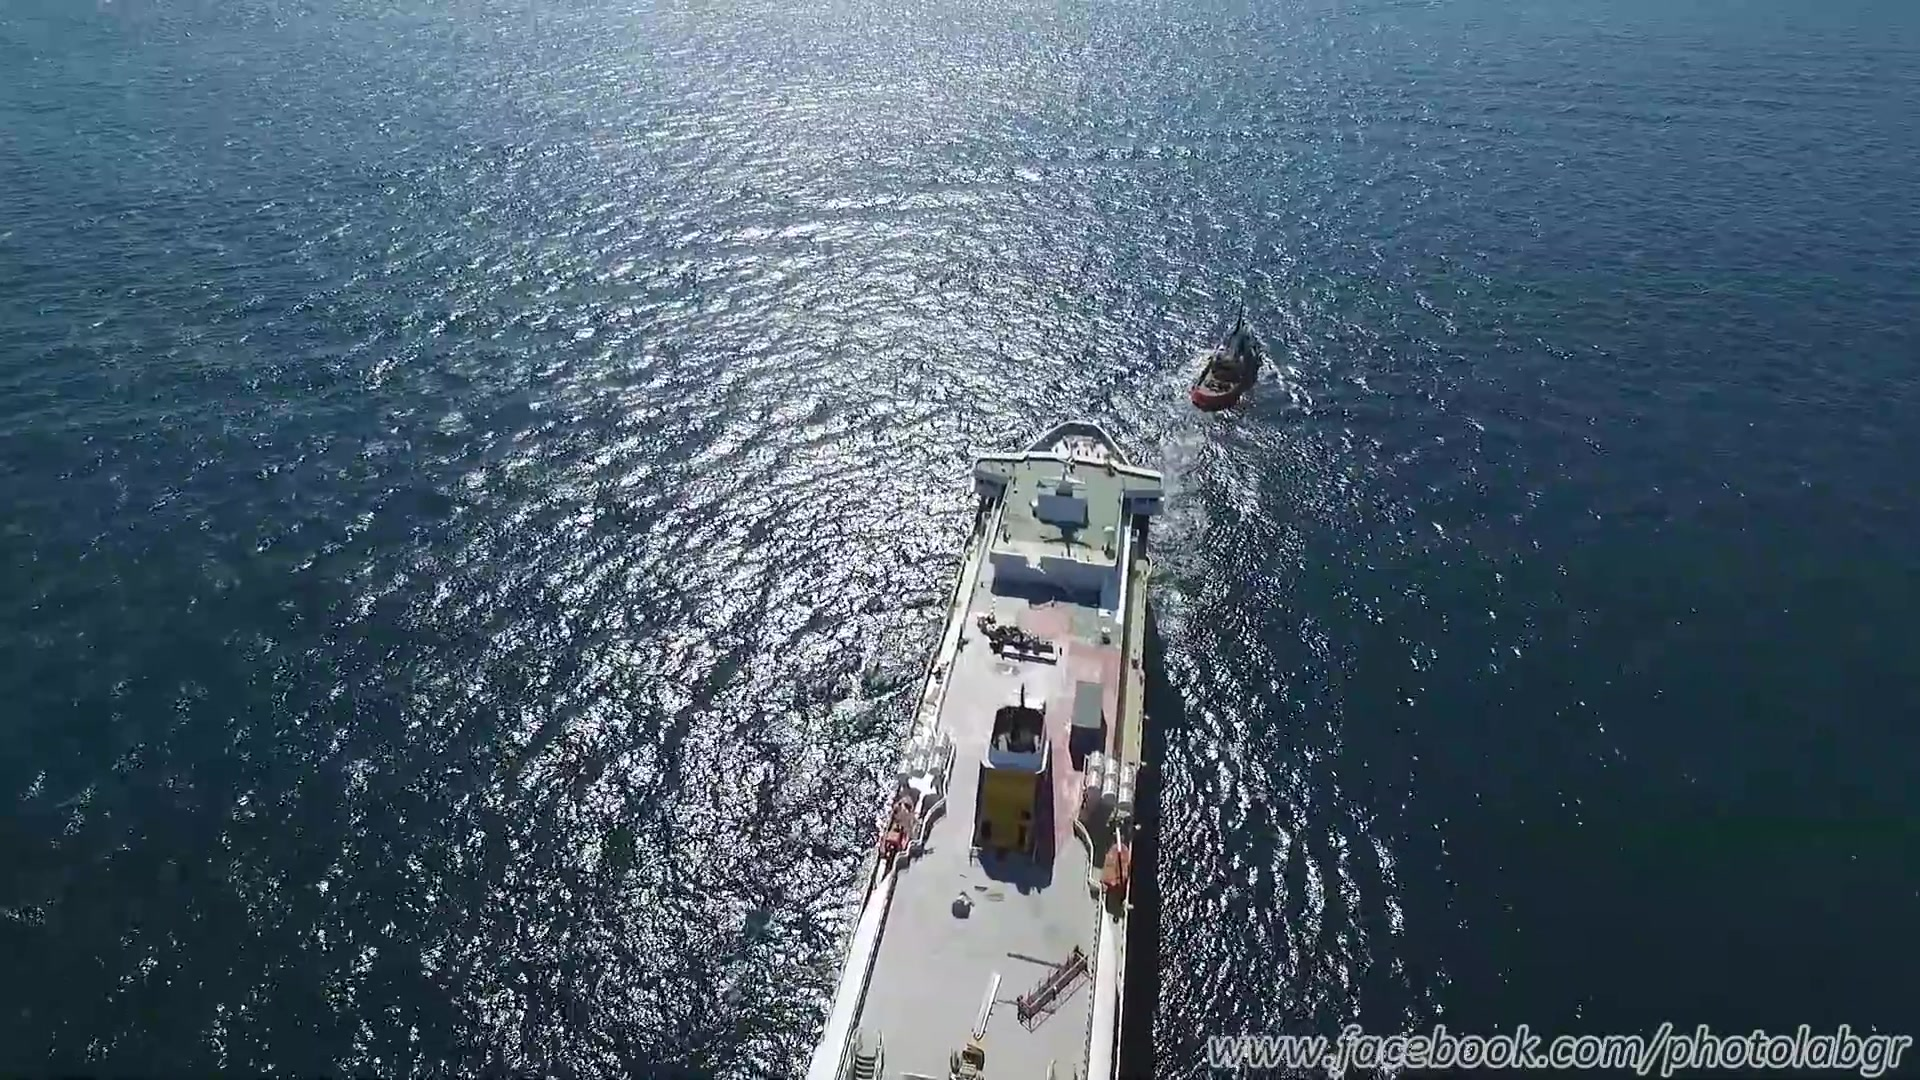CommonShip: (818, 407, 1168, 1047), (1187, 313, 1269, 410)
